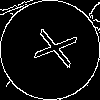X: (25, 25, 77, 69)
